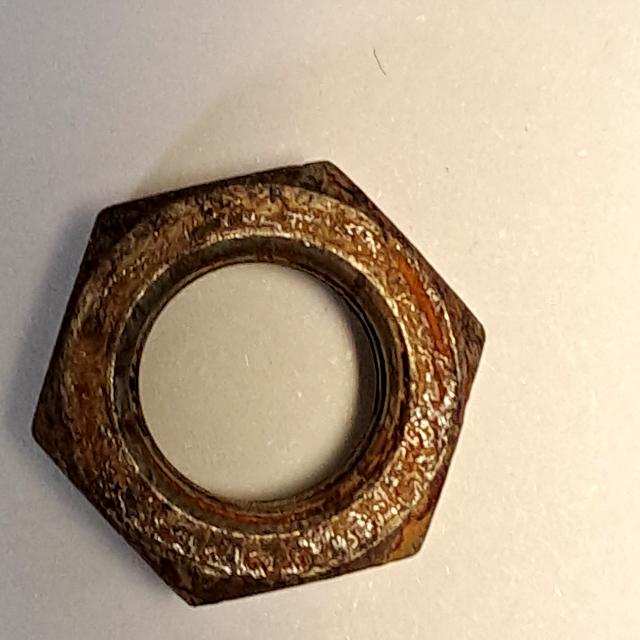Rust: (10, 143, 502, 624)
